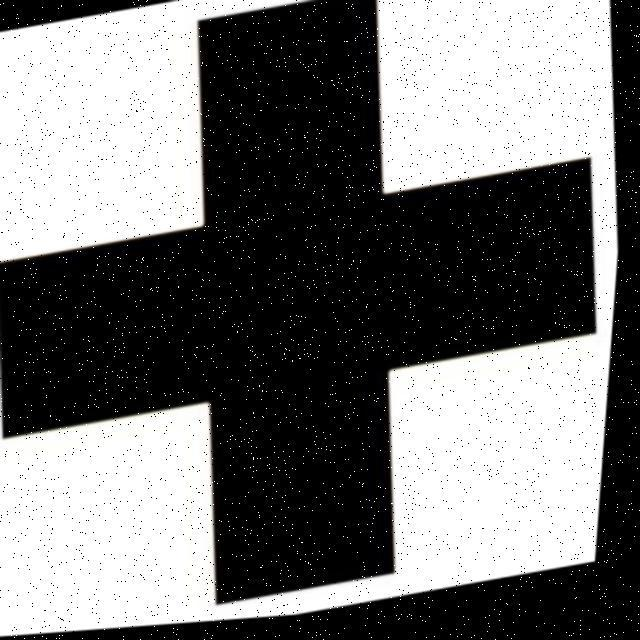cross: (21, 10, 568, 560)
